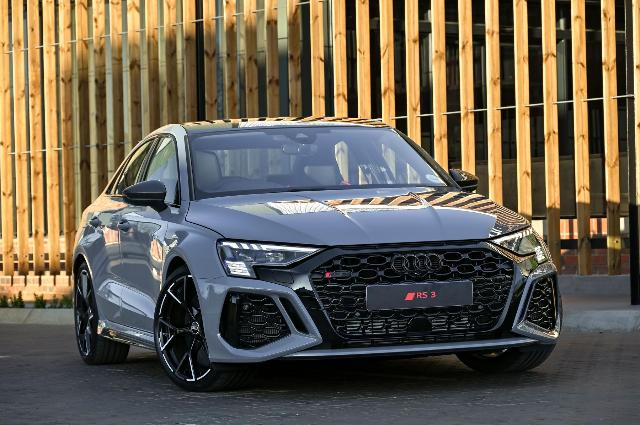audi: (72, 118, 564, 392)
